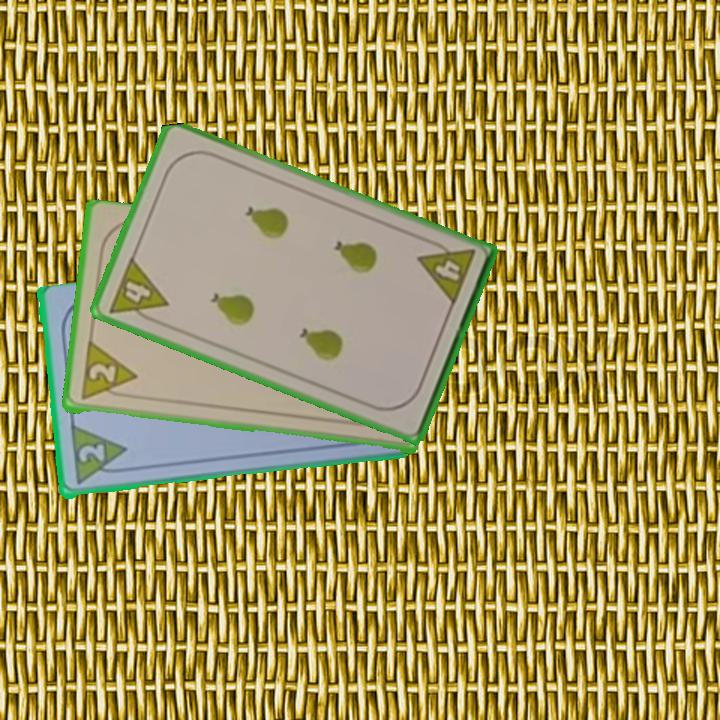2p: (77, 340, 139, 404), (74, 440, 108, 466)
4p: (104, 253, 171, 328), (414, 235, 478, 309)
